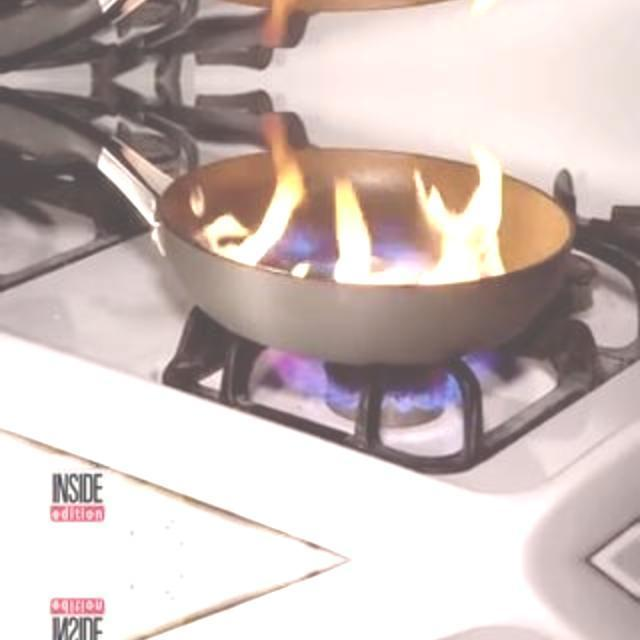smoke: (193, 113, 531, 289), (193, 0, 531, 47)
